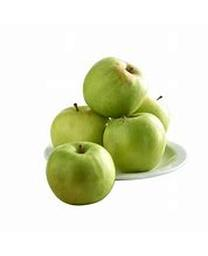apple: (45, 141, 115, 204), (82, 57, 148, 118), (103, 113, 165, 174), (50, 104, 108, 147), (134, 96, 169, 134)
